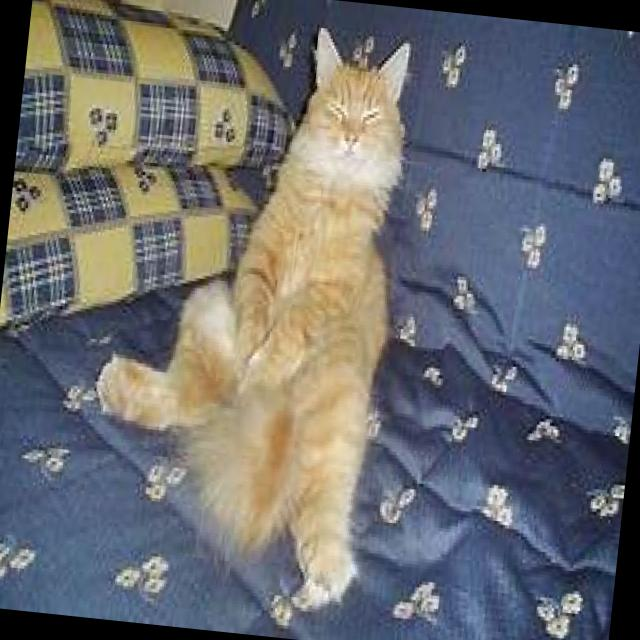cat: (79, 10, 416, 608)
